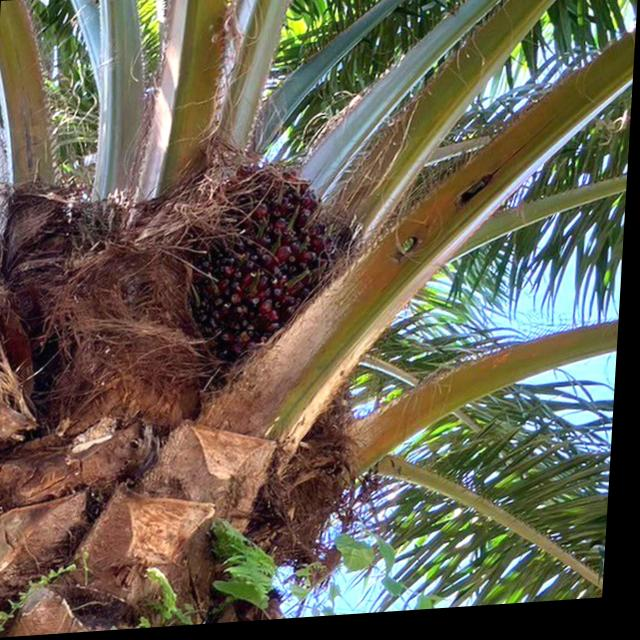ripe: (192, 181, 347, 361)
